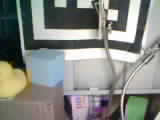duck: (1, 53, 36, 106)
